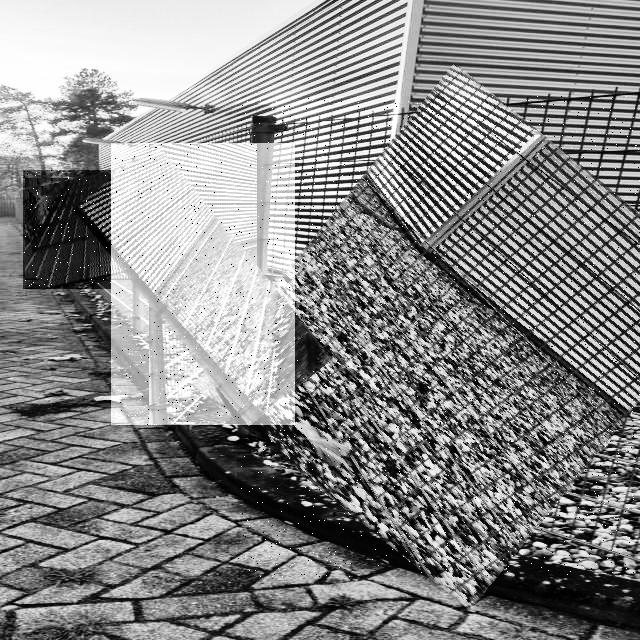fences: (237, 96, 640, 577), (111, 143, 295, 425), (23, 170, 142, 289)
